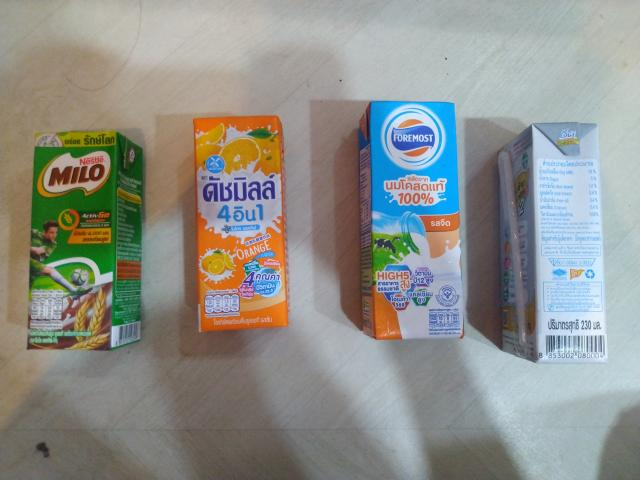drink_box: (349, 86, 477, 375), (482, 113, 615, 375), (17, 111, 149, 366), (178, 106, 308, 345)
